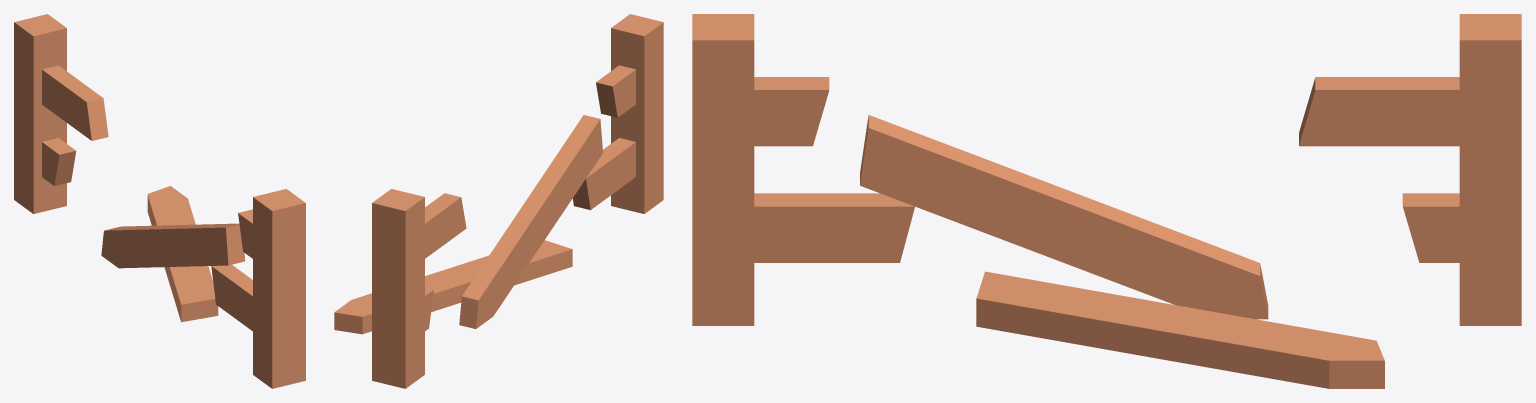
File: fenceBroken.dae
3 views of the same model, side by side, from view 1: azimuth 30°, elevation 25°; view 2: azimuth 150°, elevation 25°; view 3: azimuth 270°, elevation 25° (orthographic). The views are drawn at different scales.
Visible parts, largest first — view 1: fenceBroken; view 2: fenceBroken; view 3: fenceBroken.
Part boxes in pixels (left/top/right/bottom): fenceBroken: left=14, top=14, right=305, bottom=388; fenceBroken: left=334, top=14, right=663, bottom=388; fenceBroken: left=692, top=14, right=1521, bottom=388.
Bounding box in the file's own units: 0.2547 × 0.38 × 1.
